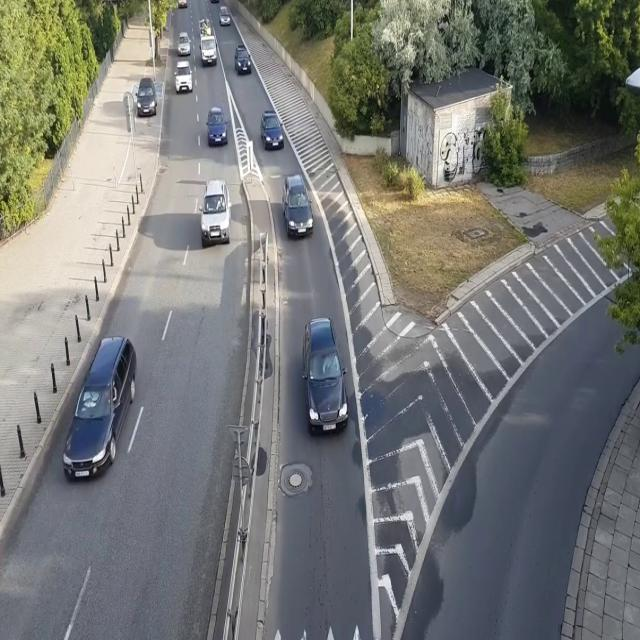car: (63, 335, 138, 481), (300, 316, 350, 436), (199, 178, 232, 246), (282, 173, 314, 238), (260, 110, 285, 151), (206, 106, 228, 147), (135, 77, 157, 117), (174, 60, 193, 94), (234, 42, 252, 74), (176, 32, 192, 57), (219, 5, 231, 27), (177, 0, 188, 8), (208, 0, 220, 3)
truck: (198, 18, 218, 69)
